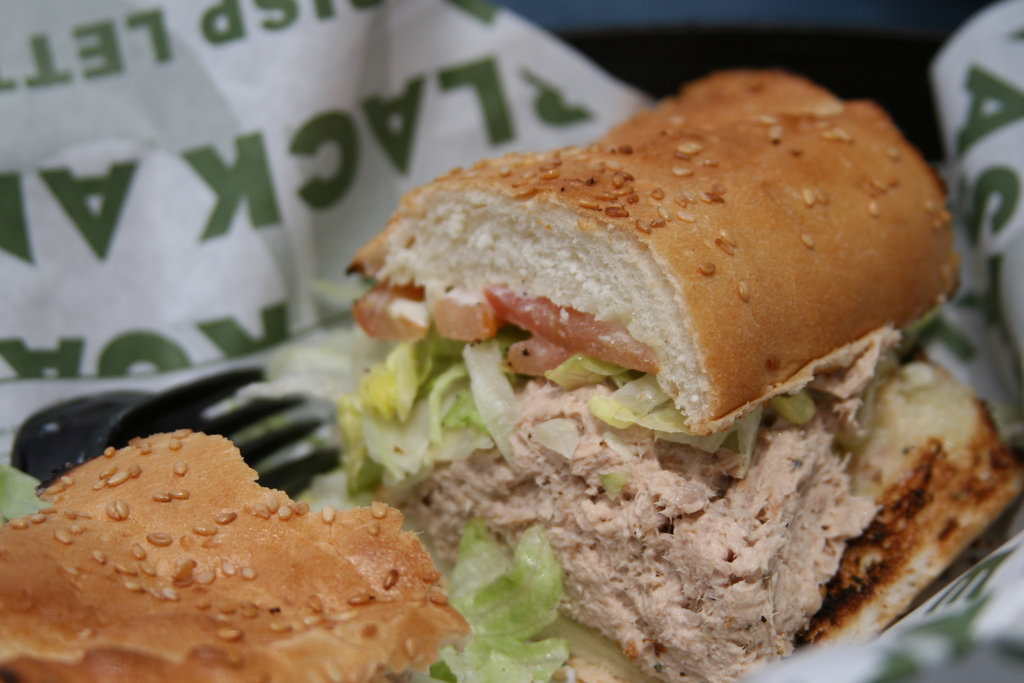sandwich: (342, 67, 1023, 682), (0, 424, 473, 682)
